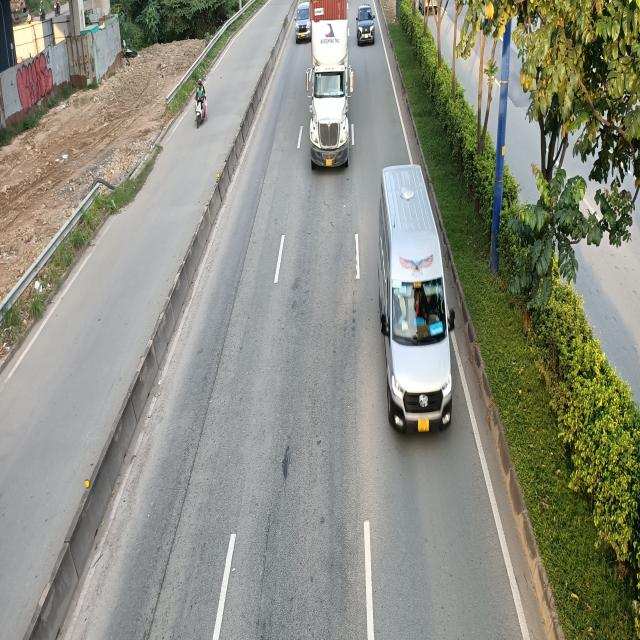car: (355, 4, 375, 46), (296, 3, 313, 42)
container: (307, 1, 355, 168)
van: (380, 164, 459, 433)
